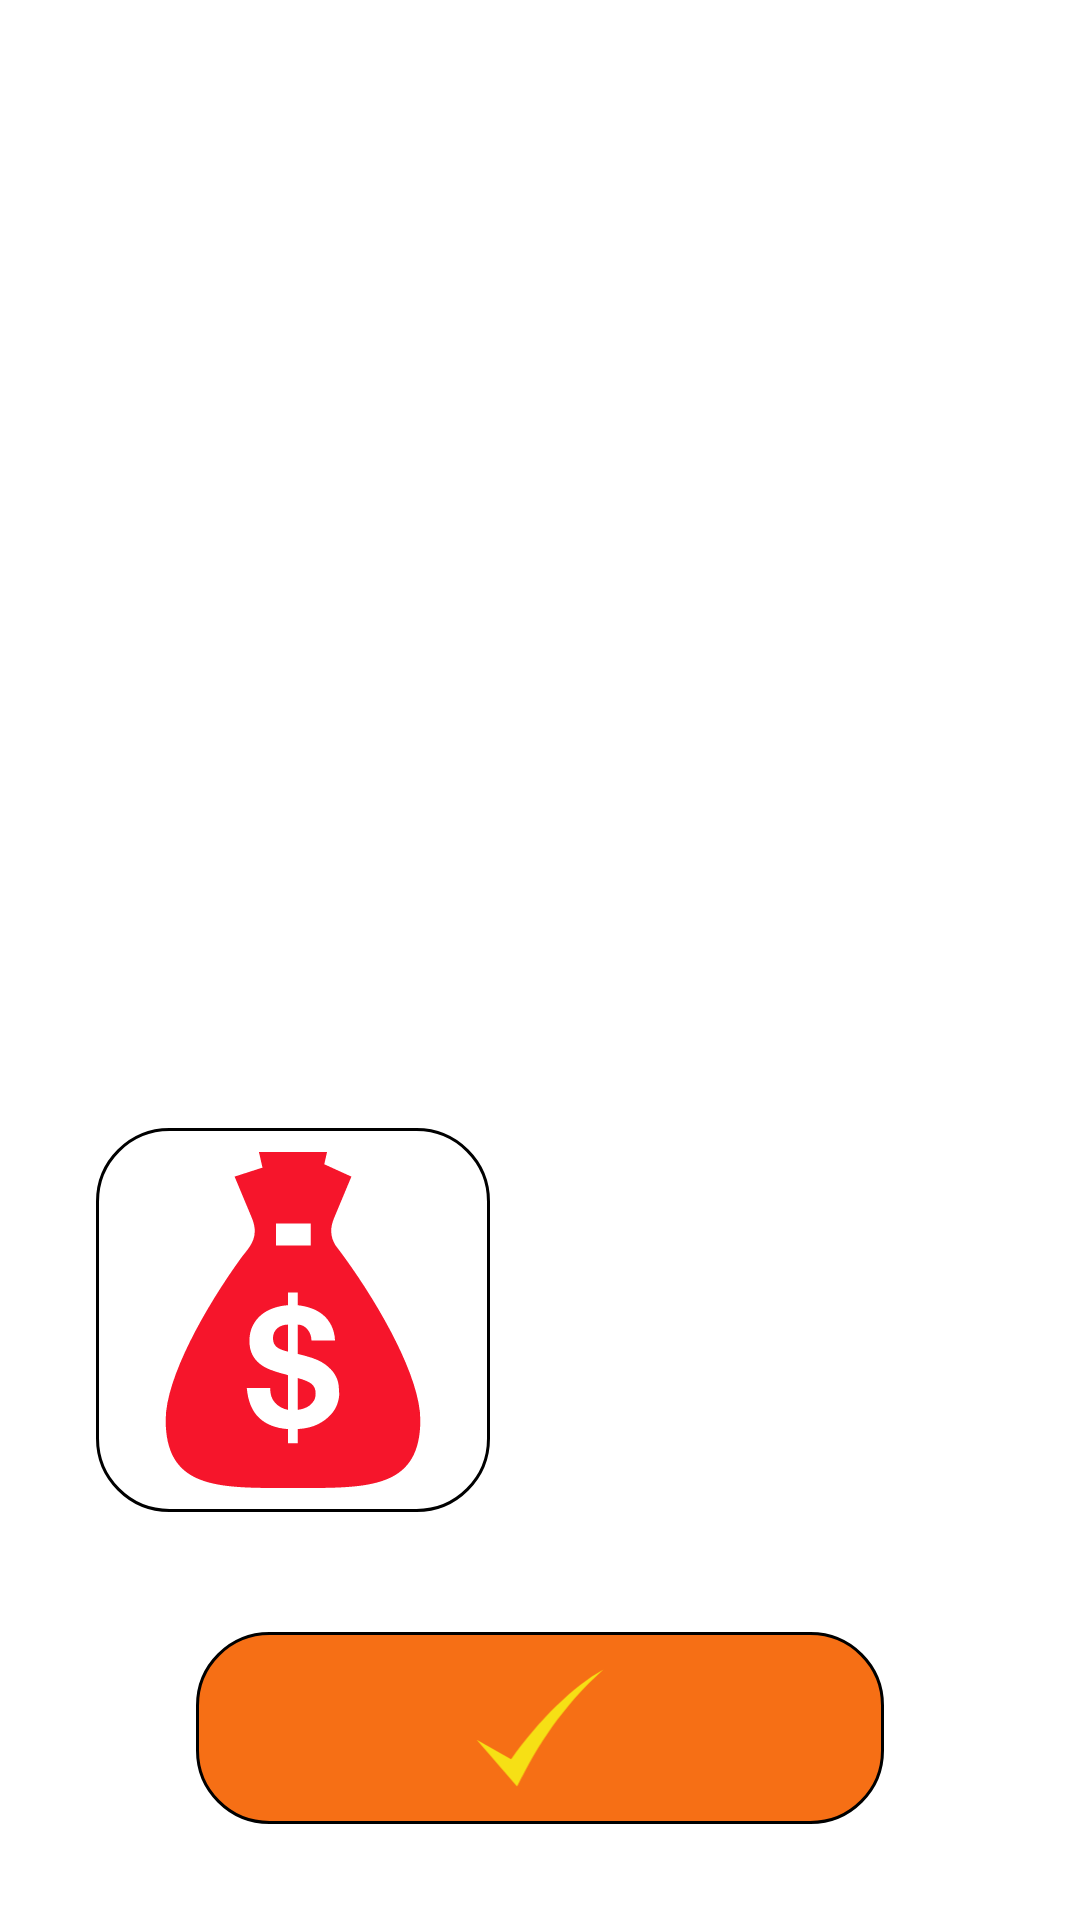

Screen size 1080 × 1920. Icon name, then its center in pixels as (x,y):
money bag: (269,1296)
